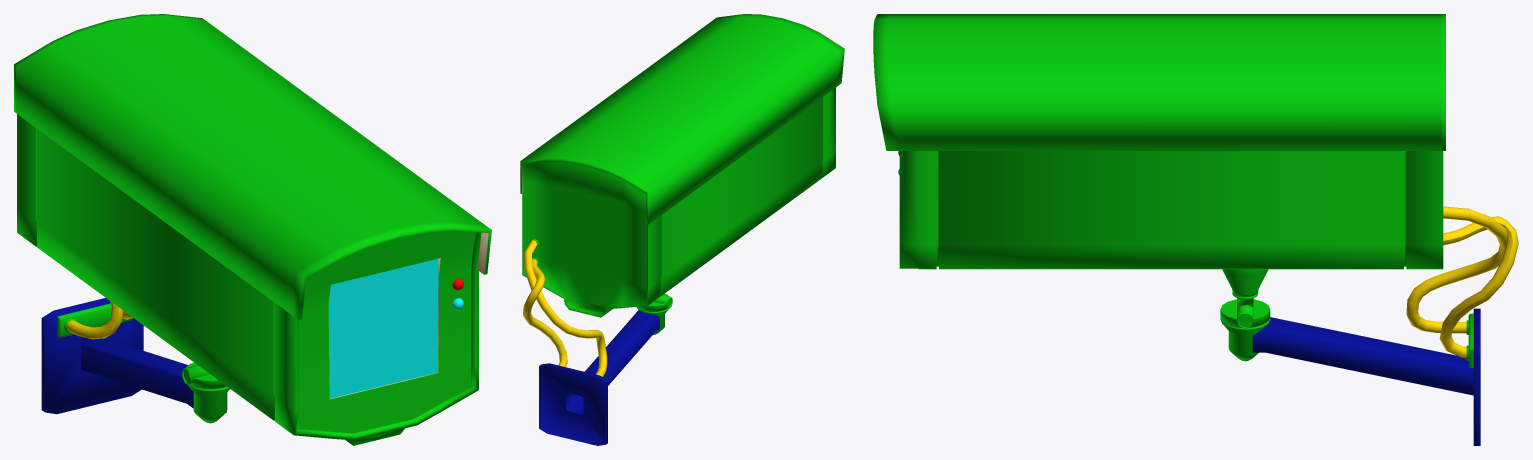
Rendered from CCTV.fbx.
3 views of the same model, side by side, from view 1: azimuth 30°, elevation 25°; view 2: azimuth 150°, elevation 25°; view 3: azimuth 270°, elevation 25° (orthographic). The views are drawn at different scales.
Parts seen in each view (by area): view 1: CCTV_Camera_low, CCTV_Camera_low.001; view 2: CCTV_Camera_low, CCTV_Camera_low.001; view 3: CCTV_Camera_low, CCTV_Camera_low.001.
Boxes of the visible parts, x1,y1,x2,y2 form: CCTV_Camera_low: (14, 14, 491, 445); CCTV_Camera_low.001: (66, 258, 463, 398); CCTV_Camera_low: (520, 14, 844, 445); CCTV_Camera_low.001: (523, 240, 607, 376); CCTV_Camera_low: (873, 14, 1480, 445); CCTV_Camera_low.001: (898, 151, 1518, 358).
Size of the model in its own units: 0.663 by 1.33 by 2.
